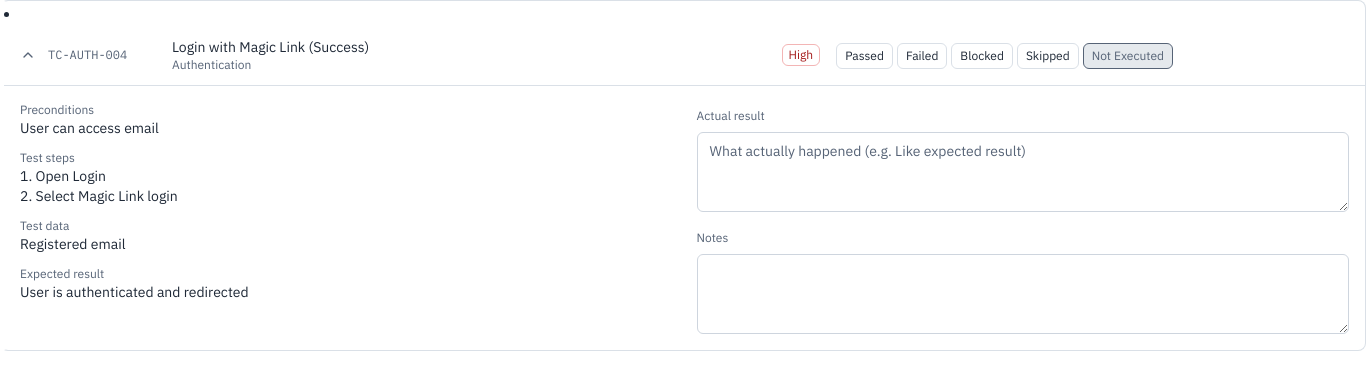
ResultRow › keeps typed text and offers a retry when saving fails
Type "Only on Safari" into the text box labelled "Notes" at [1023, 294], box [696, 254, 1349, 334]
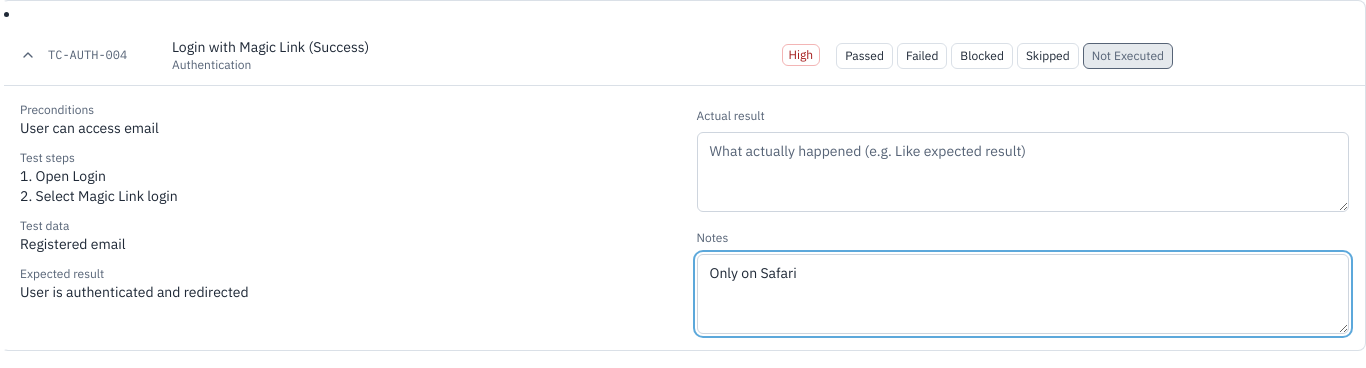
Press Tab
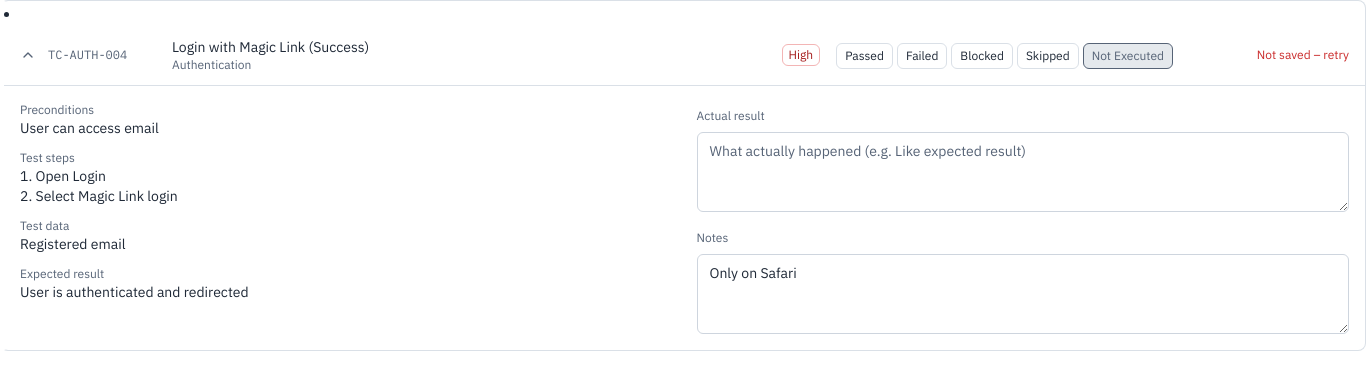
Click the button "Not saved – retry" at [1303, 55], box [1257, 47, 1349, 63]
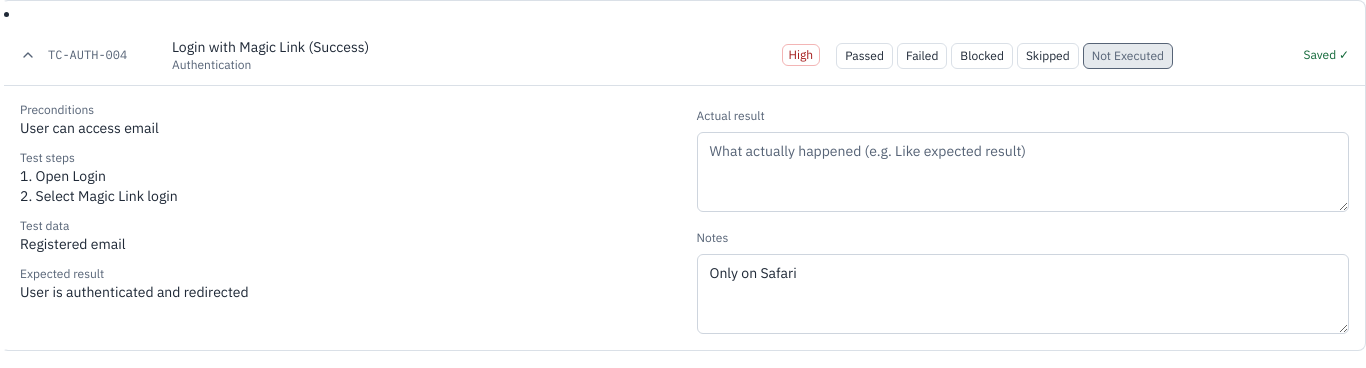
Expected: the text "Saved ✓" is shown, [1304, 47, 1349, 63]
